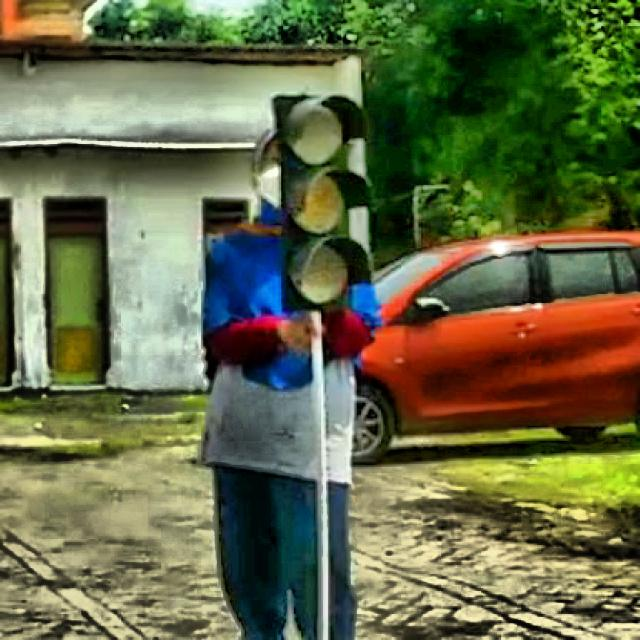yellow: (272, 89, 376, 311)
